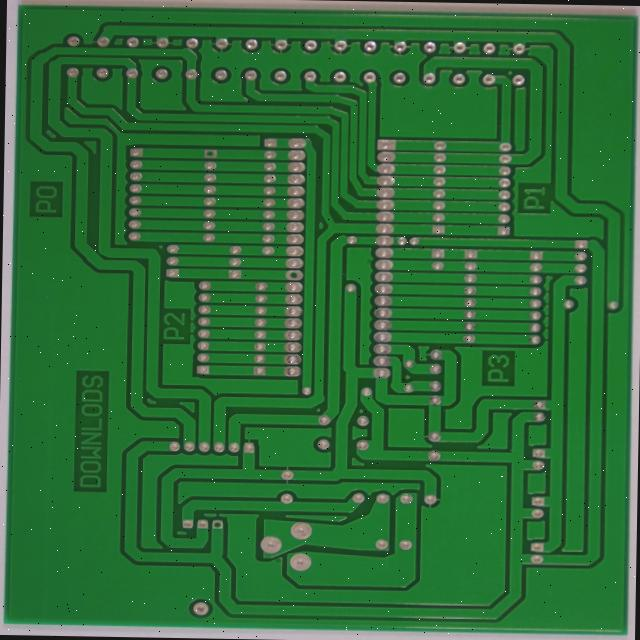missing_hole: (237, 288, 263, 304), (142, 157, 169, 172), (154, 556, 174, 573)
